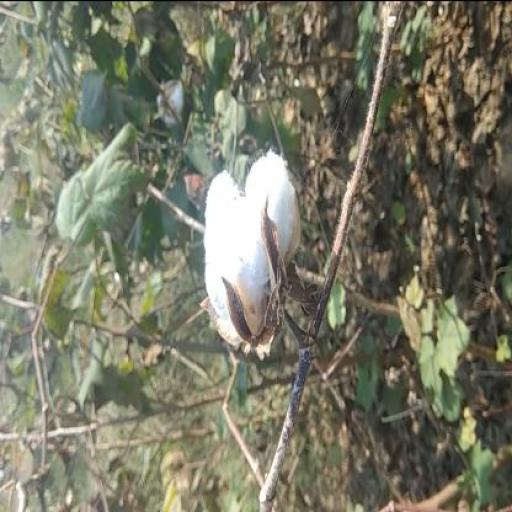cotton_ready: (201, 134, 348, 376)
